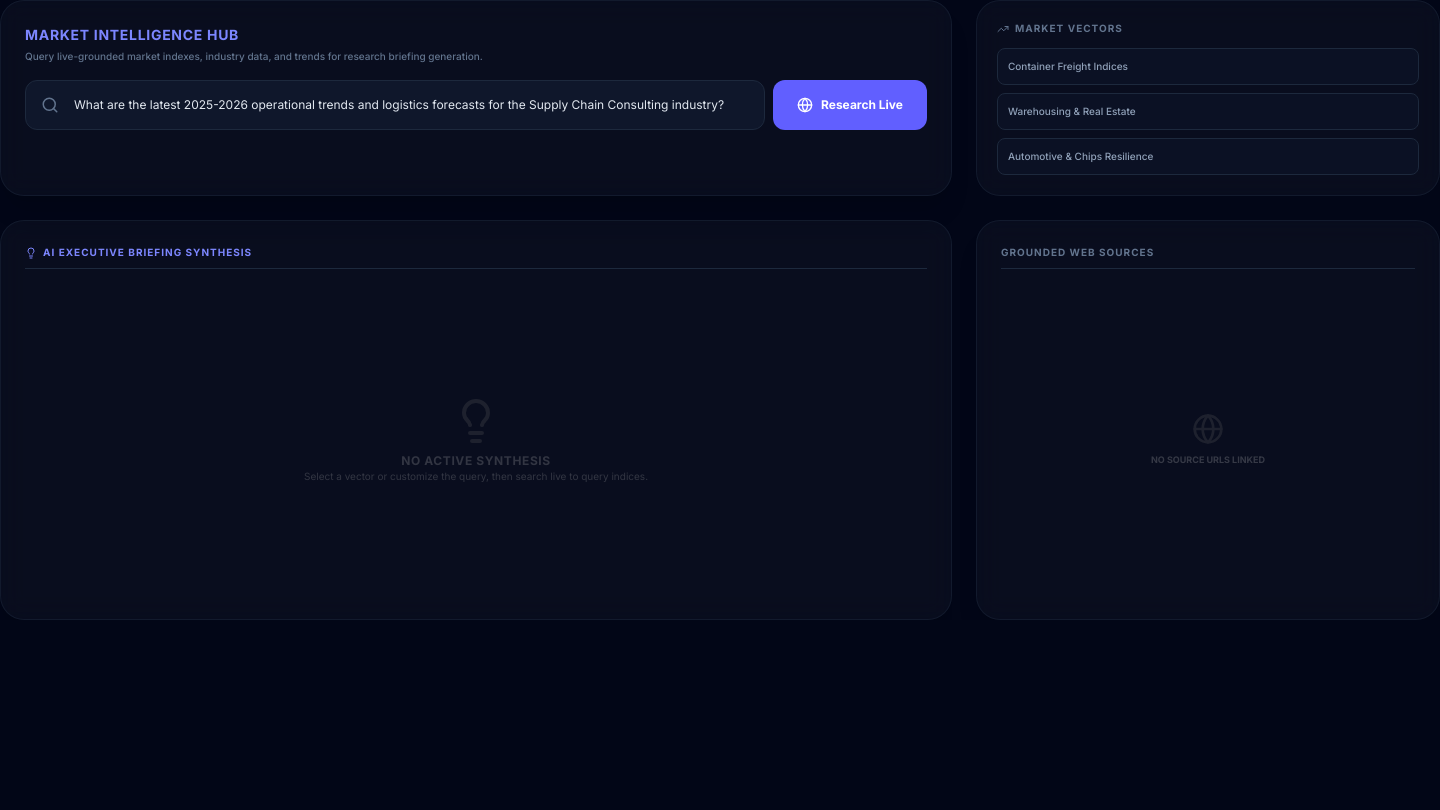
Test case: MarketInsights Component › selects a preset search query
Step 1. Click the button "Container Freight Indices" → click(1068, 66), box [997,48,1419,85]
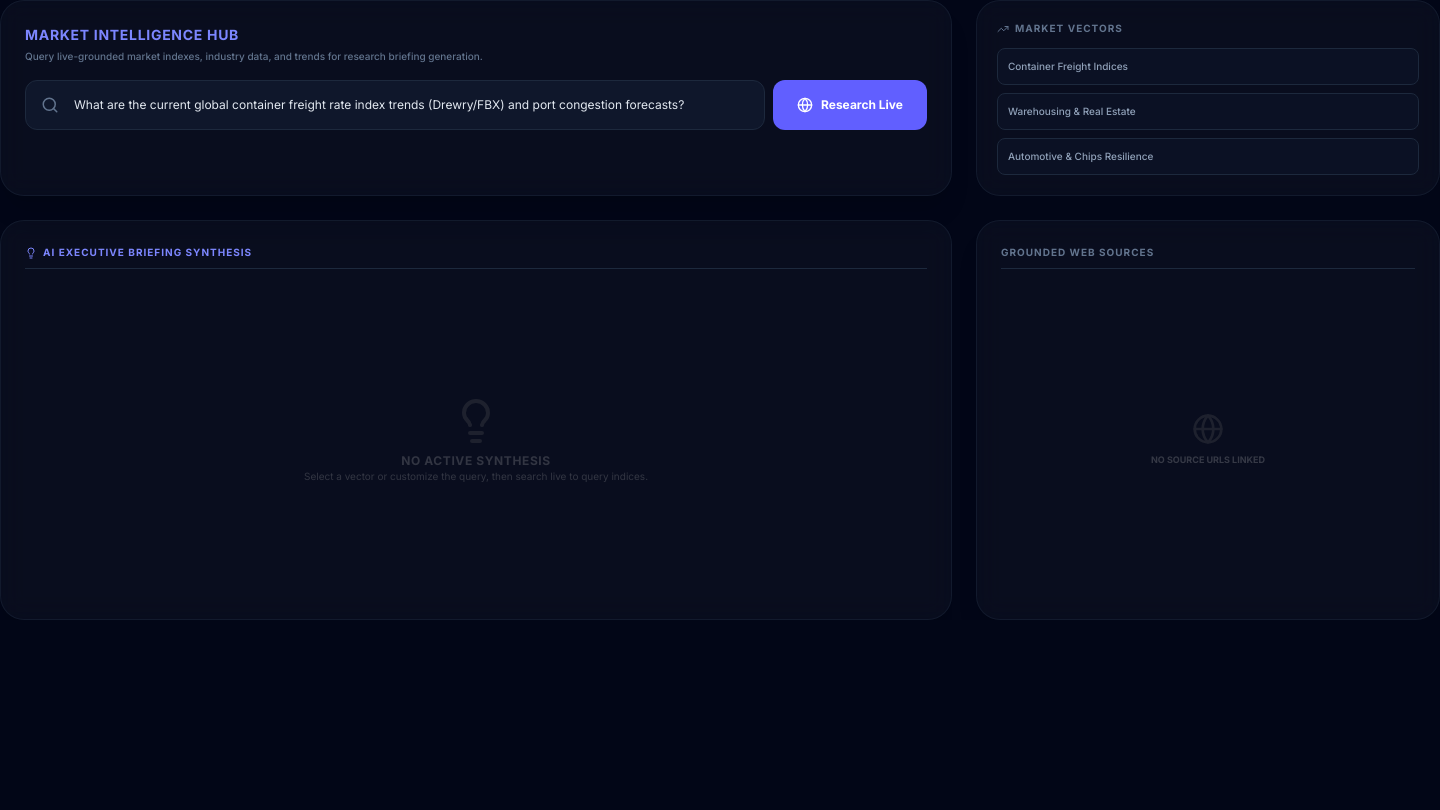
Now the field showing "What are the current global container freight rate index" is shown, box [25,80,765,130]
